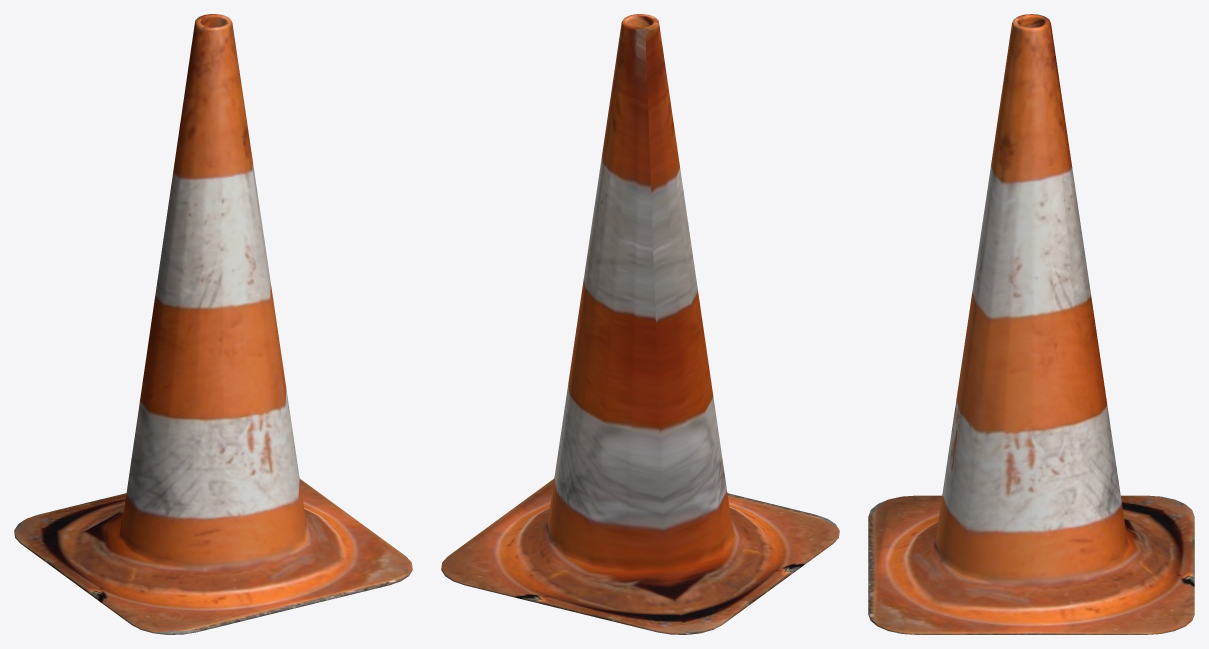
3 renders of one model, left to right at view 1: azimuth 30°, elevation 25°; view 2: azimuth 150°, elevation 25°; view 3: azimuth 270°, elevation 25°, orthographic. The views are drawn at different scales.
Parts seen in each view (by area): view 1: Plane; view 2: Plane; view 3: Plane.
Boxes of the visible parts, left/top/right/bottom form: Plane: left=14, top=14, right=412, bottom=634; Plane: left=441, top=14, right=839, bottom=634; Plane: left=868, top=14, right=1194, bottom=634.
Bounding box in the file's own units: 0.5578 × 1.03 × 0.5578.
Materials: 1 (1 with a texture image).
